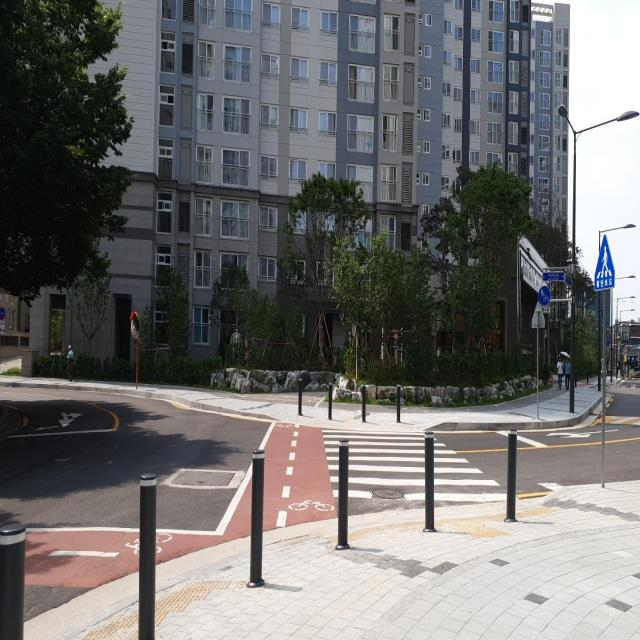횡단보도: (321, 427, 520, 502)
